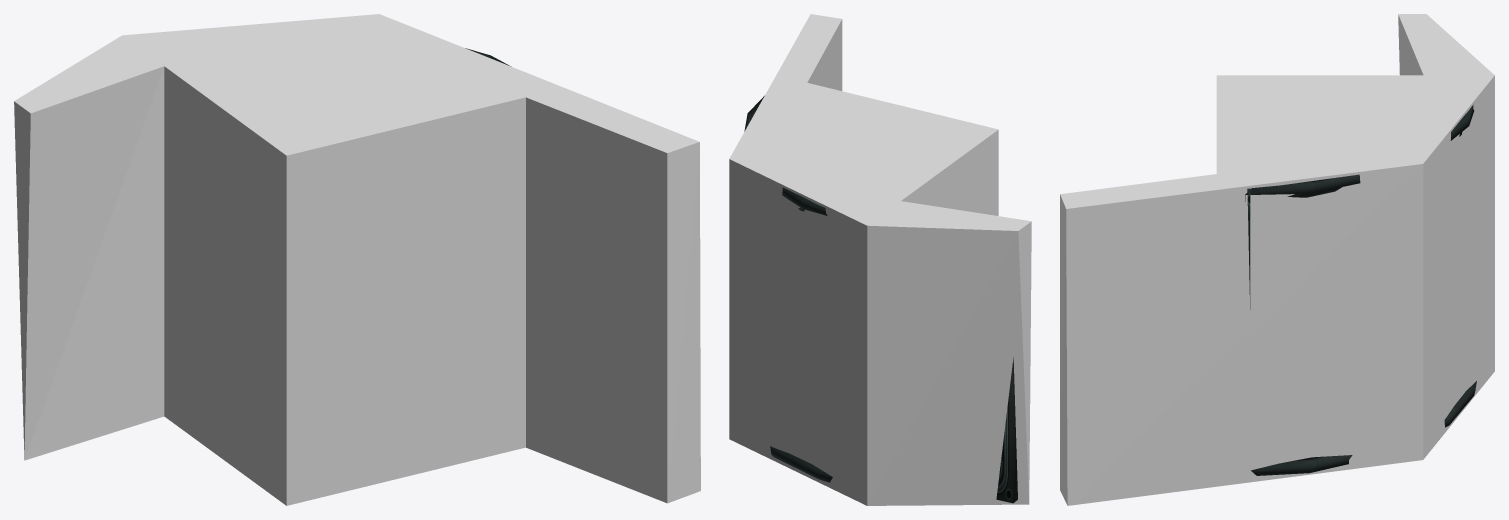
File: CargoContainerOpenLOD.fbx
3 views of the same model, side by side, from view 1: azimuth 30°, elevation 25°; view 2: azimuth 150°, elevation 25°; view 3: azimuth 270°, elevation 25° (orthographic). The views are drawn at different scales.
Parts seen in each view (by area): view 1: CargoContainerOpenCollMesh; view 2: CargoContainerOpenCollMesh, CargoContainterOpen_LOD0; view 3: CargoContainerOpenCollMesh, CargoContainterOpen_LOD0.
Part boxes in pixels (x1=…): CargoContainerOpenCollMesh: x1=14, y1=14, x2=700, y2=505; CargoContainerOpenCollMesh: x1=729, y1=14, x2=1031, y2=505; CargoContainterOpen_LOD0: x1=744, y1=95, x2=1017, y2=503; CargoContainerOpenCollMesh: x1=1060, y1=14, x2=1494, y2=505; CargoContainterOpen_LOD0: x1=1245, y1=105, x2=1476, y2=475.
Size of what is drawn, in the model's own units: 334 by 235 by 313.
